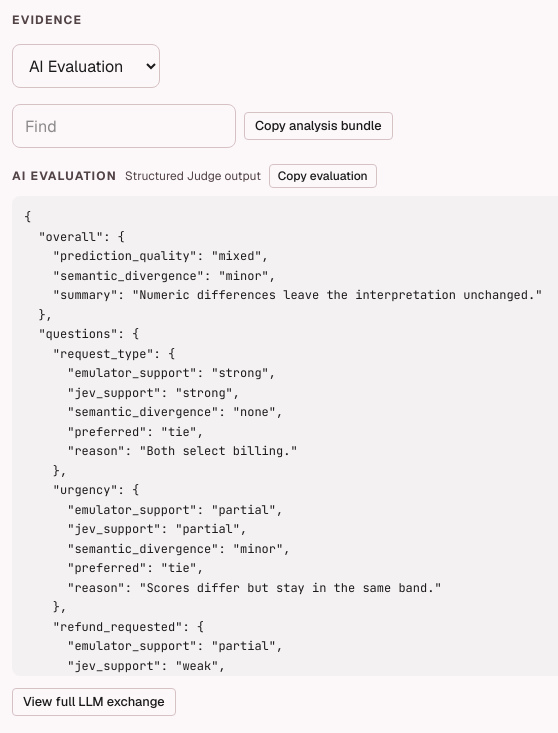
Test case: EvidenceView — Find over the active payload (§45.4) › filters the payload to matching lines, highlights them and shows the count
Step 1. Type "urgency" into the search field with test id "find-input" → x=124, y=126, box left=12, top=104, right=236, bottom=148
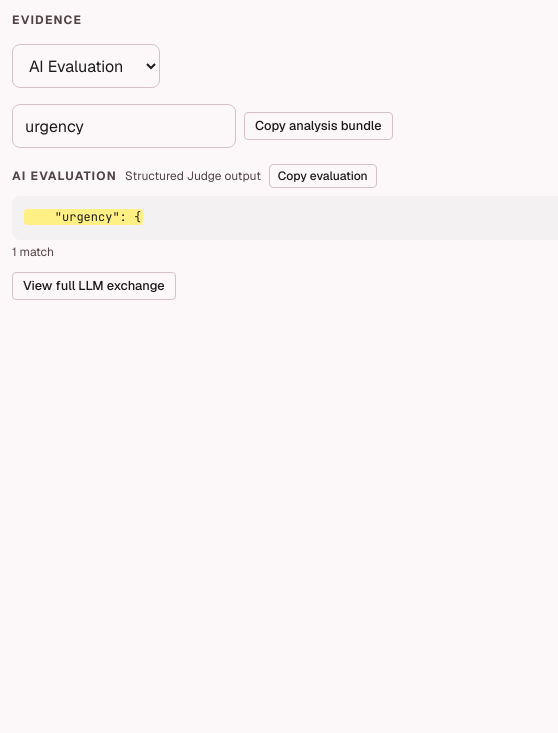
Expected: the text with test id "find-match" shows "urgency", left=26, top=209, right=141, bottom=225
Expected: the text with test id "find-count" reads "1 match", left=12, top=244, right=54, bottom=260
Expected: the text with test id "payload-matches" no longer shows "prediction_quality"
